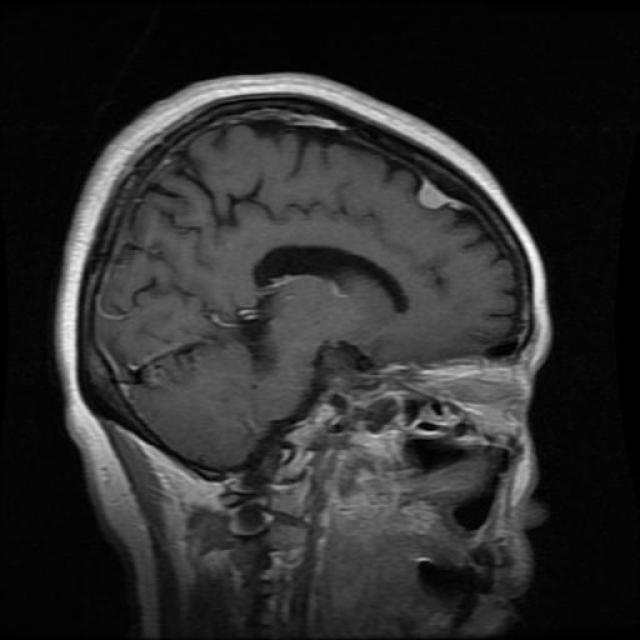meningioma: (418, 176, 470, 212)
